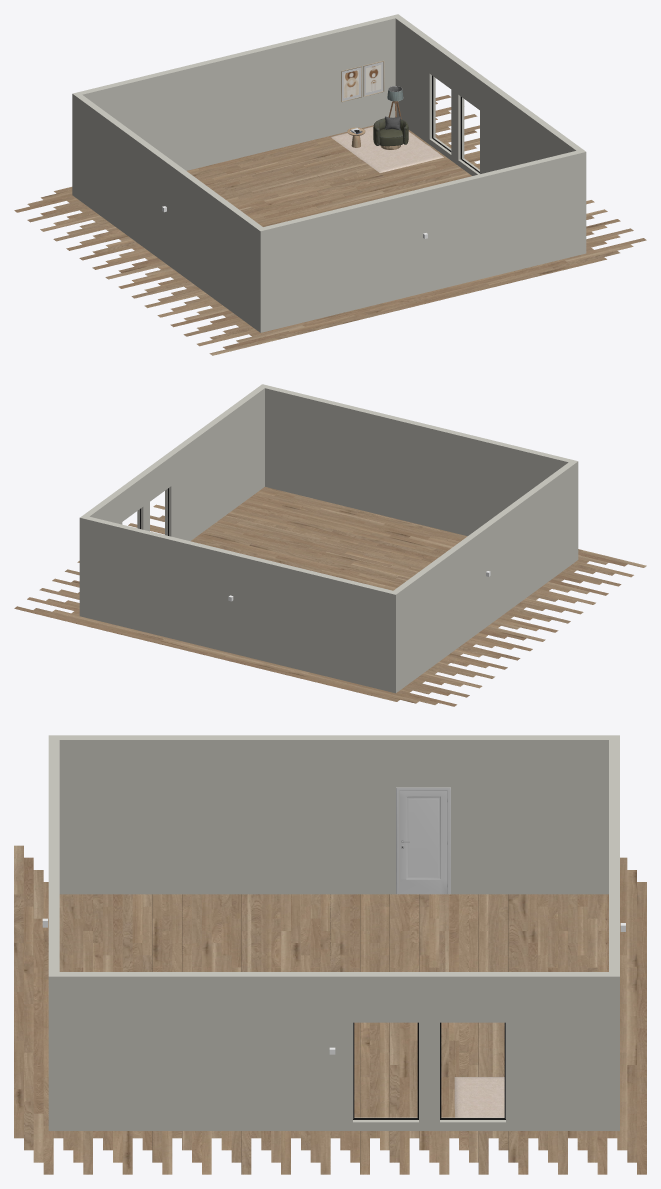
Rendered from sample_room.glb.
3 views of the same model, one above another, from view 1: azimuth 30°, elevation 25°; view 2: azimuth 150°, elevation 25°; view 3: azimuth 270°, elevation 25° (orthographic). The views are drawn at different scales.
Parts seen in each view (by area): view 1: WallFront, WallBack, Floor001, WallLeft, WallRight, Architectural_Model_008_04_Carpet_Baked, Seat_Lounge_Round_Green_Wood_01001_Baked; view 2: WallBack, WallFront, Floor001, WallLeft, WallRight; view 3: Floor001, WallLeft, WallRight, Set_D_Pattern_02003_2, WallFront, WallBack, Architectural_Model_008_04_Carpet_Baked, Set_D_Pattern_02003_1.
Part boxes in pixels (<box>): WallFront: <box>257,149,586,332</box>; WallBack: <box>72,14,401,197</box>; Floor001: <box>14,95,646,355</box>; WallLeft: <box>76,95,262,329</box>; WallRight: <box>395,17,582,175</box>; Architectural_Model_008_04_Carpet_Baked: <box>331,126,443,172</box>; Seat_Lounge_Round_Green_Wood_01001_Baked: <box>373,118,408,146</box>; WallBack: <box>79,515,399,693</box>; WallFront: <box>259,384,578,561</box>; Floor001: <box>14,487,646,706</box>; WallLeft: <box>393,462,574,690</box>; WallRight: <box>83,387,264,541</box>; Floor001: <box>14,845,646,1174</box>; WallLeft: <box>59,735,608,894</box>; WallRight: <box>59,972,608,1130</box>; Set_D_Pattern_02003_2: <box>399,791,447,894</box>; WallFront: <box>48,735,59,1130</box>; WallBack: <box>609,735,619,1130</box>; Architectural_Model_008_04_Carpet_Baked: <box>454,1077,504,1117</box>; Set_D_Pattern_02003_1: <box>396,787,450,894</box>.
Bounding box in the file's own units: 14.18 × 3.11 × 11.52.
Materials: 28 (15 with a texture image).
